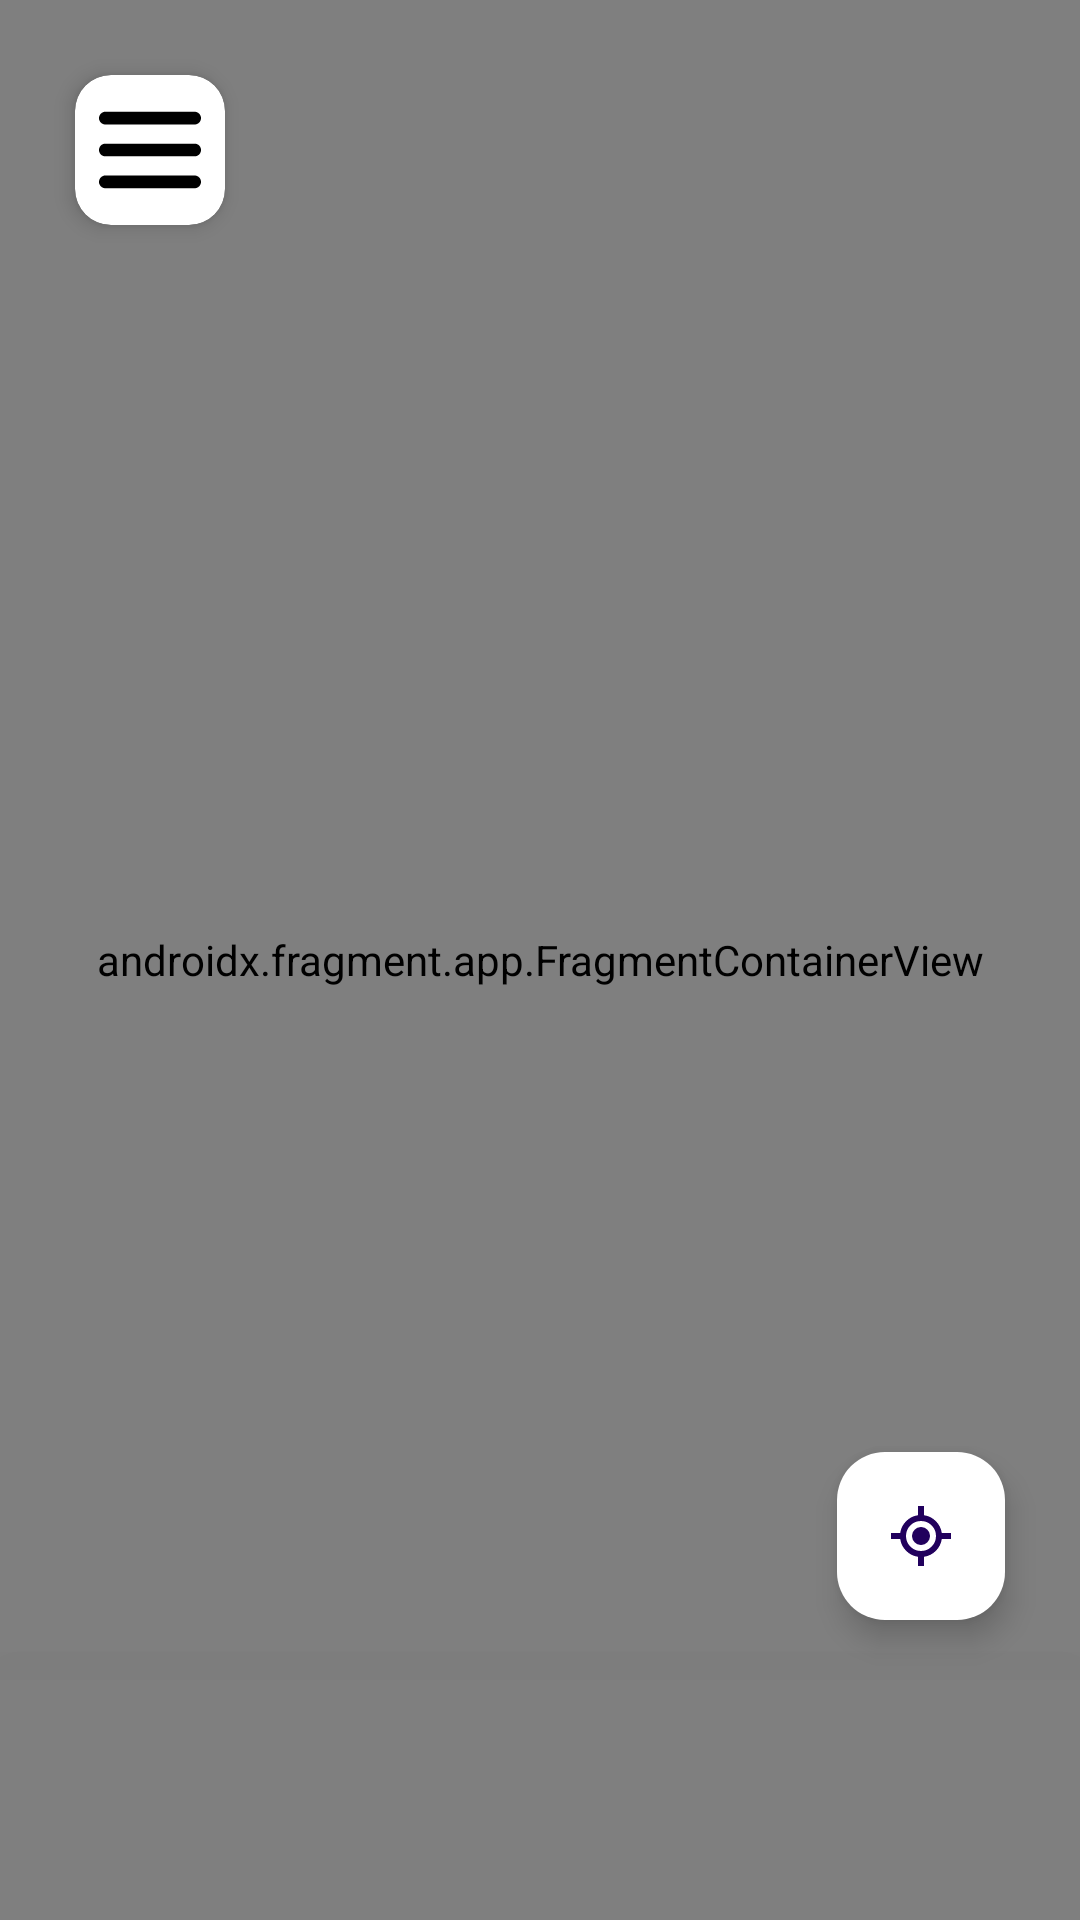

Icon bounding boxes for this 1080 x 1920 phone screenshot, format (x1, y1, x2, y2):
Menú icon: (75, 75, 225, 225)
Seguir mi ubicación: (837, 1452, 1005, 1620)
